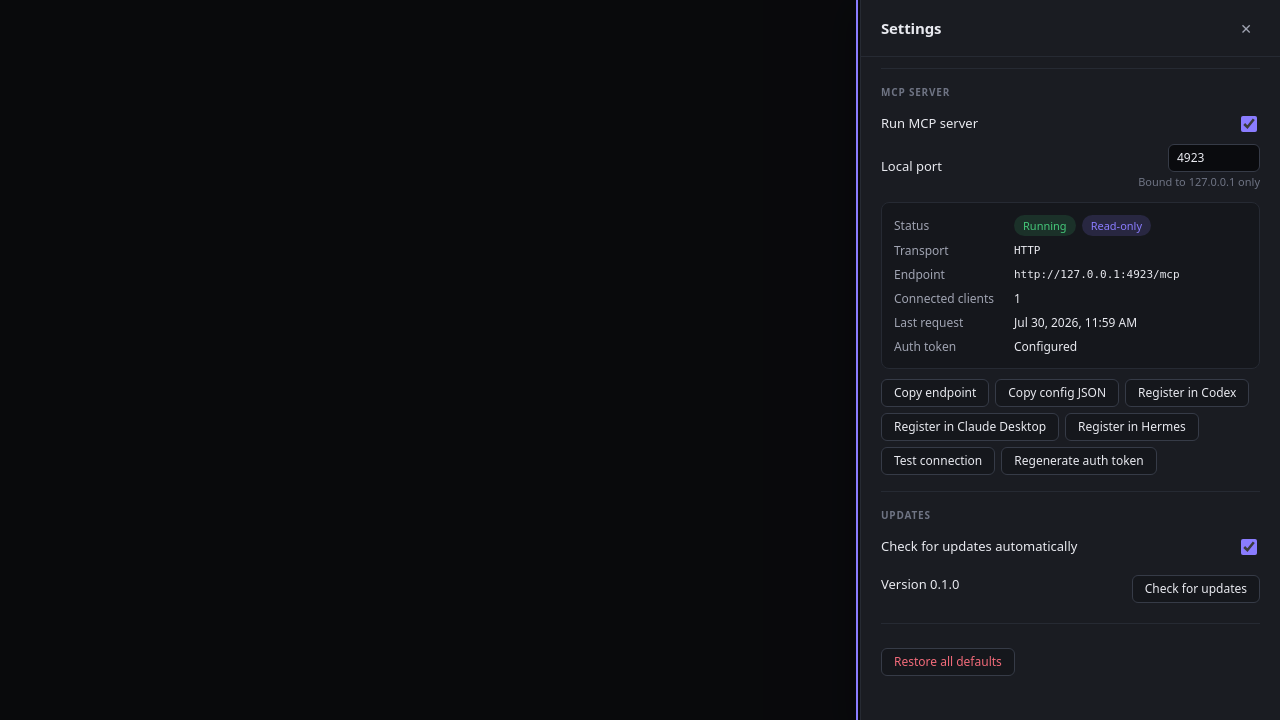
it: SettingsDrawer MCP section › copies the config JSON through the MCP IPC and toasts
(page scrolled)
Expected: the dialog "Settings" is shown, [860, 0, 1279, 719]
What coordinates should you click on to do the following:
click the button "Copy config JSON"
I would click on:
 (1057, 393)
Its box is [995, 379, 1119, 407].
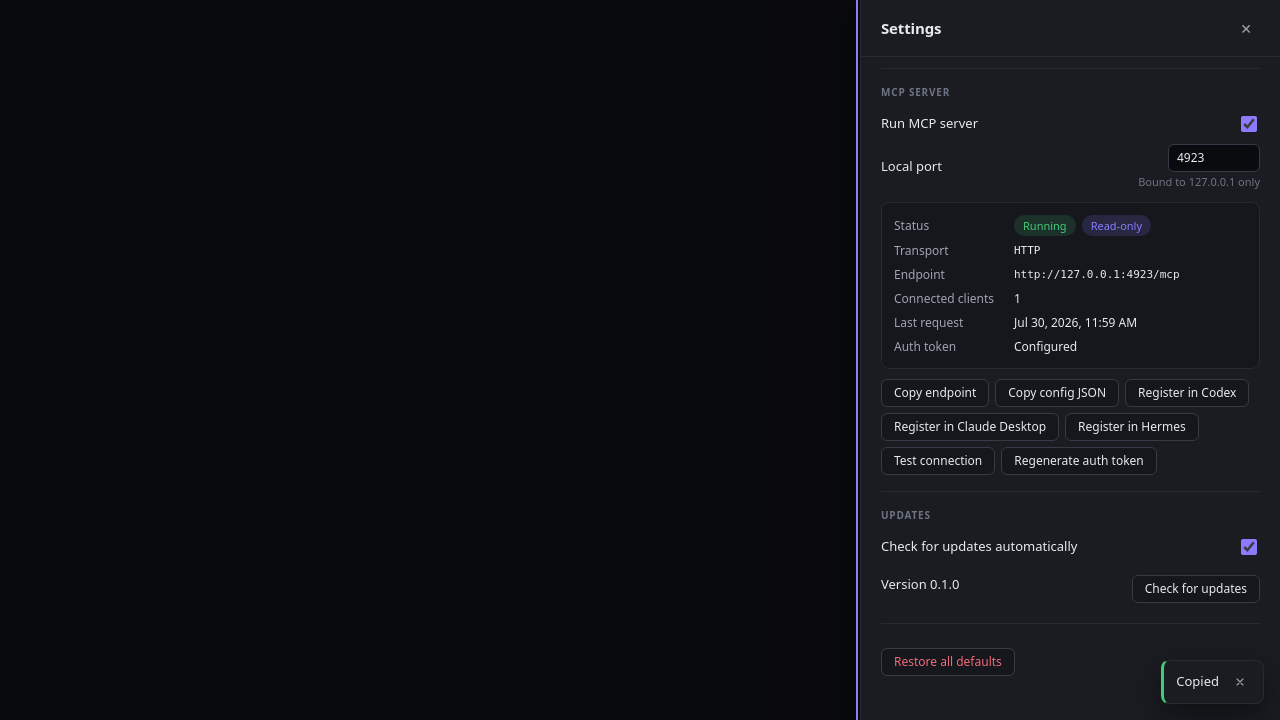
Expected: the text "Copied" is shown, [1176, 672, 1219, 692]
